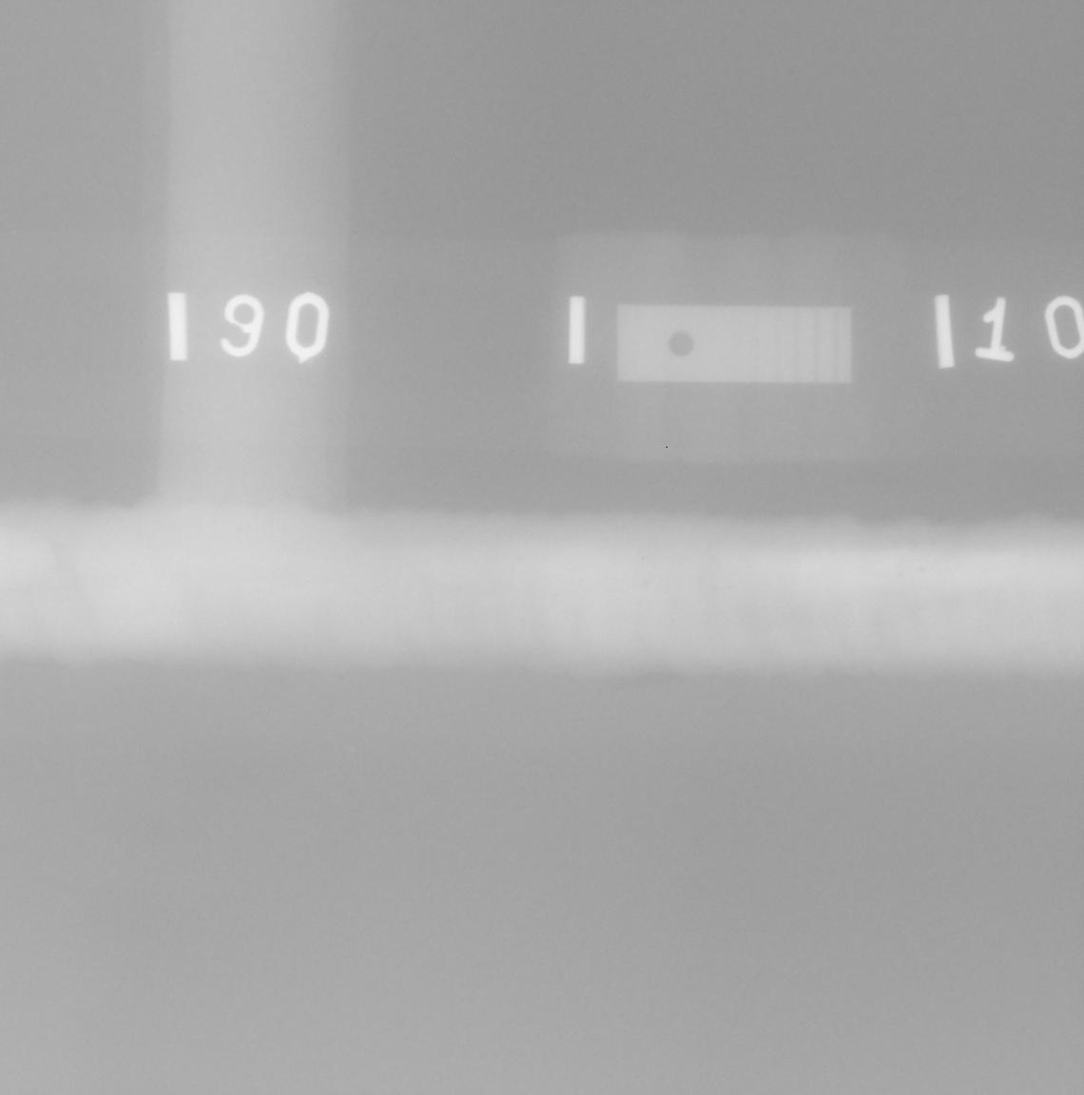Inclusion: (516, 556, 523, 562), (553, 594, 558, 601)
Pore/Porosity: (916, 564, 929, 576), (641, 579, 650, 588), (234, 526, 243, 535), (894, 571, 903, 579), (639, 555, 647, 561), (456, 587, 464, 593), (726, 584, 733, 590), (714, 589, 719, 592)
Reference Standard 1: (617, 305, 852, 385)
